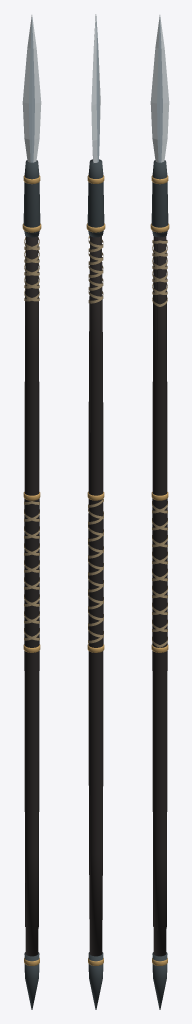
Rendered from weapon_japan_yari_lod1.glb.
The picture shows the model from 3 angles, left to right: view 1: azimuth 90°, elevation 25°; view 2: azimuth 150°, elevation 25°; view 3: azimuth 270°, elevation 25°; orthographic projection.
Visible parts, largest first — view 1: Authored_japan_yari.001; view 2: Authored_japan_yari.001; view 3: Authored_japan_yari.001.
Part boxes in pixels (x1=…): Authored_japan_yari.001: x1=22, y1=15, x2=41, y2=1009; Authored_japan_yari.001: x1=86, y1=14, x2=105, y2=1009; Authored_japan_yari.001: x1=150, y1=15, x2=169, y2=1009.
Size of the model in its own units: 0.042 by 2.49 by 0.042.
